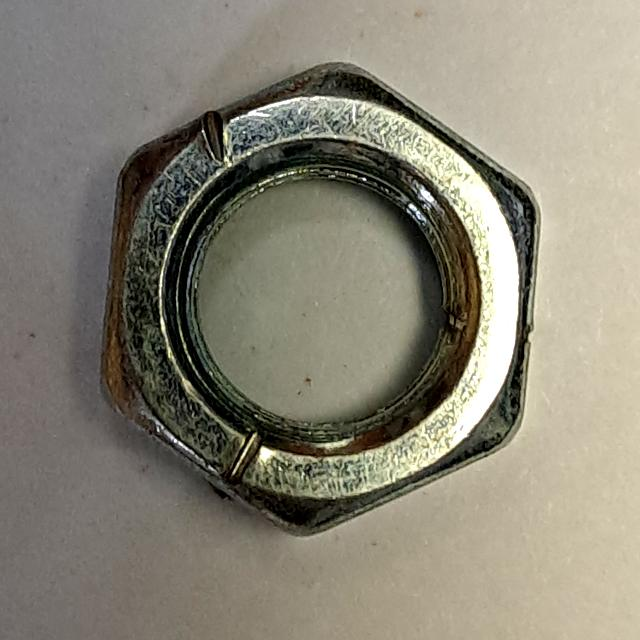Scratches: (79, 51, 558, 559)
